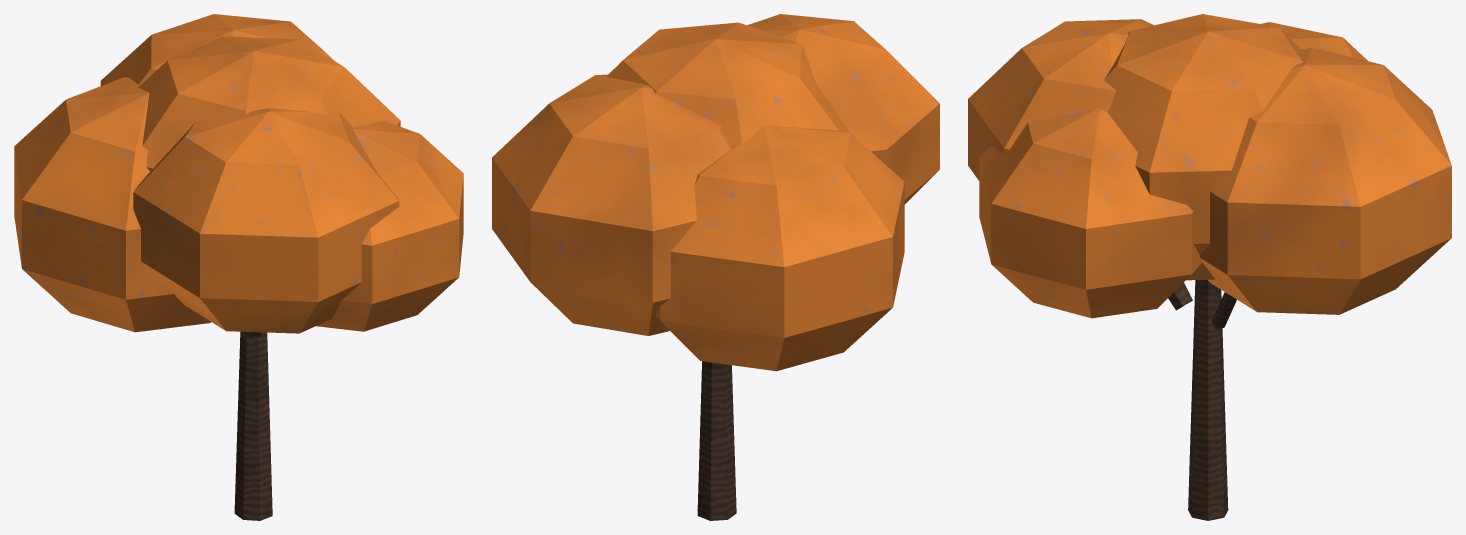
The model's file is Tree_Autumn.fbx.
The picture shows the model from 3 angles, left to right: view 1: azimuth 30°, elevation 25°; view 2: azimuth 150°, elevation 25°; view 3: azimuth 270°, elevation 25°; orthographic projection. The views are drawn at different scales.
Visible parts, largest first — view 1: Crown, Trunk; view 2: Crown, Trunk; view 3: Crown, Trunk.
Part boxes in pixels (<box>): Crown: <box>14,14,463,333</box>; Trunk: <box>234,331,272,520</box>; Crown: <box>492,14,939,371</box>; Trunk: <box>697,361,736,520</box>; Crown: <box>968,14,1451,318</box>; Trunk: <box>1168,279,1236,520</box>.
Bounding box in the file's own units: 5.77 × 7.21 × 6.58.
